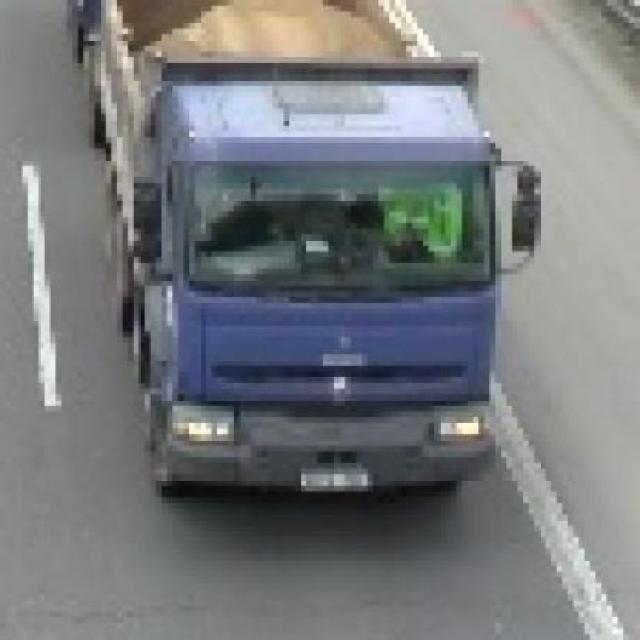truck: (67, 1, 535, 515)
